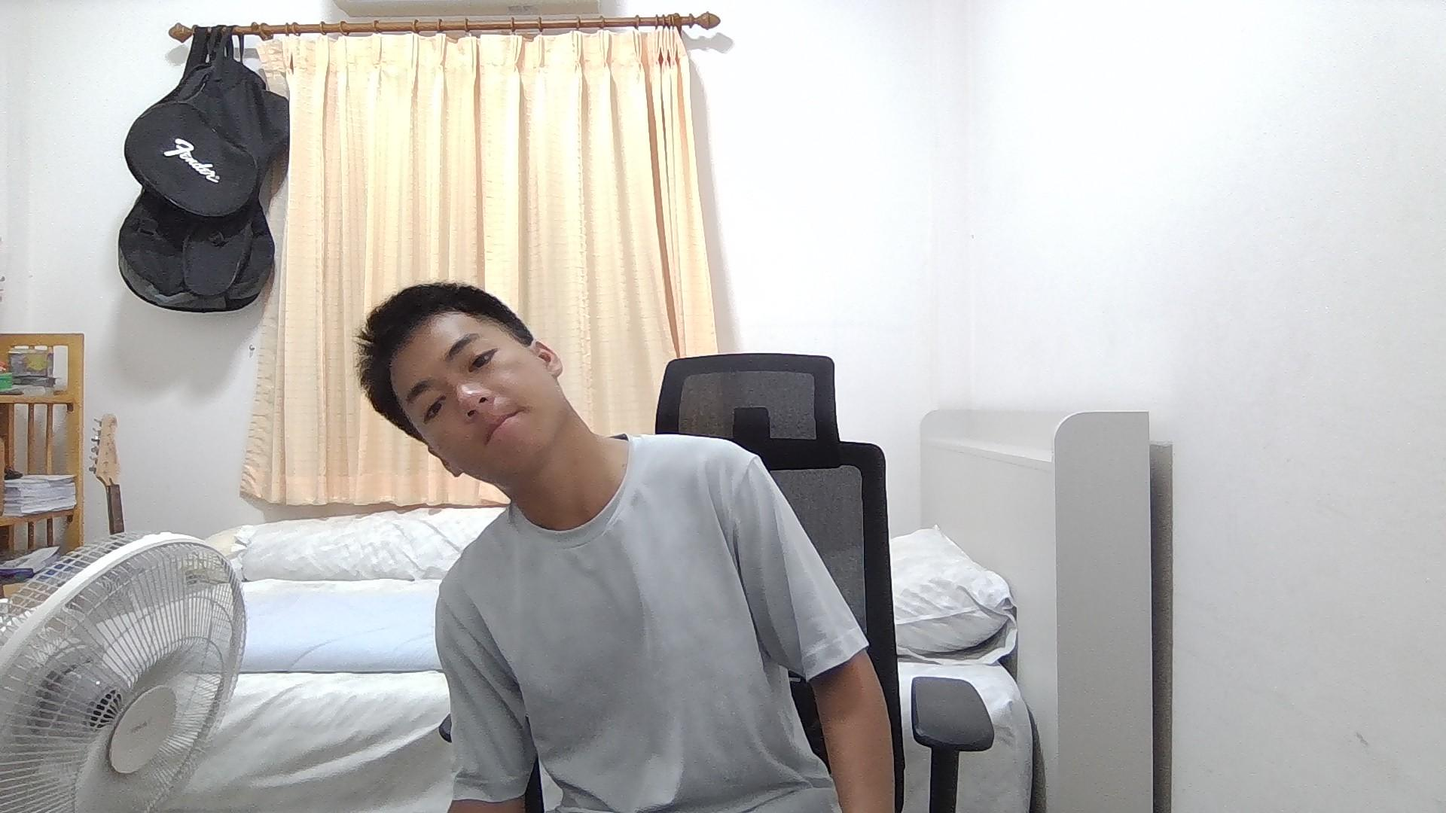BadPosture: (357, 279, 897, 812)
